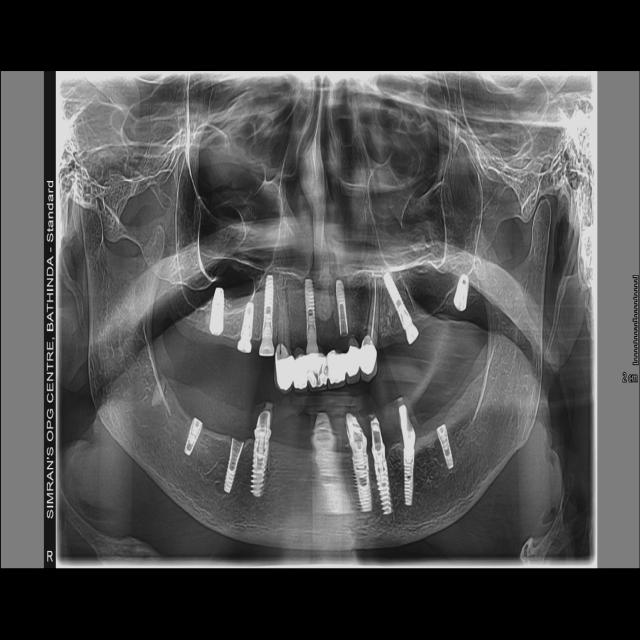Crown: (274, 343, 294, 393), (306, 352, 328, 390), (360, 335, 378, 381), (293, 347, 308, 395), (346, 334, 360, 383), (328, 350, 346, 388)
Implant: (384, 272, 412, 332), (350, 439, 372, 513), (371, 443, 392, 515), (251, 427, 272, 497), (259, 274, 274, 356), (224, 438, 244, 492), (398, 304, 419, 345), (238, 302, 254, 354), (436, 423, 454, 469), (209, 287, 225, 335), (336, 279, 349, 337), (305, 279, 317, 341), (184, 417, 202, 455), (404, 449, 415, 506), (454, 274, 469, 312)
Root Canal Treatment: (371, 279, 376, 341)
